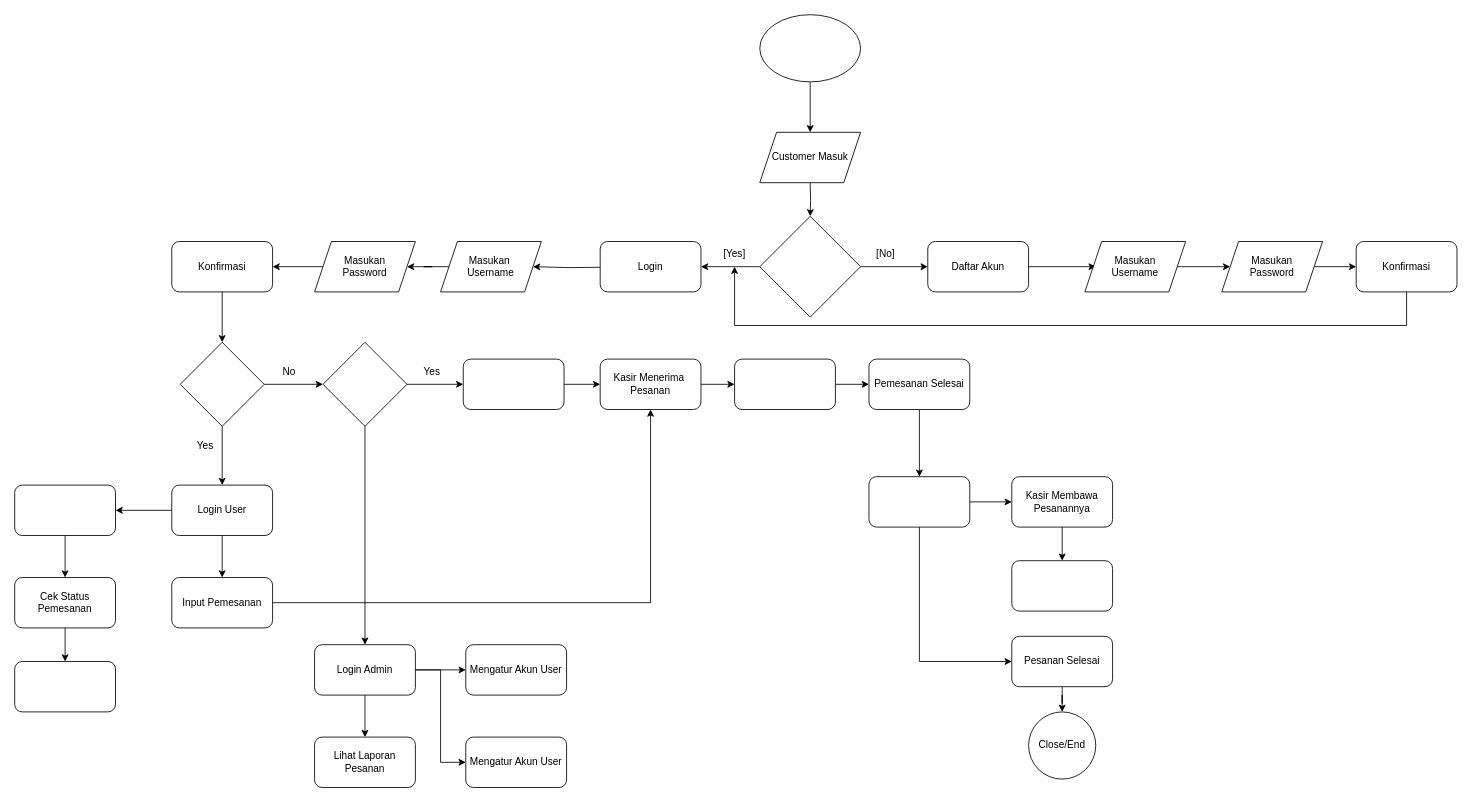
Image size: 1472x802. Some labels were removed from this diagram. The shapes that lost their labels are listed below. From the top down, each one's box as (x1, y1, x2, y2) in pixels, then its label:
(759, 14, 861, 82): Start/End
(759, 215, 861, 317): Apakah costumer sudah terdaftar?
(179, 341, 264, 426): Login User?
(322, 341, 407, 426): Login Kasir?
(462, 358, 564, 410): Login Kasir
(734, 358, 835, 410): Kasir Kelola Pesanan
(14, 484, 116, 536): Cek Riwayat Pemesanan
(868, 476, 970, 527): User Ke Tempat Laundry
(1011, 560, 1113, 611): Menuju Rumah
(14, 661, 116, 712): Cetak Struk
